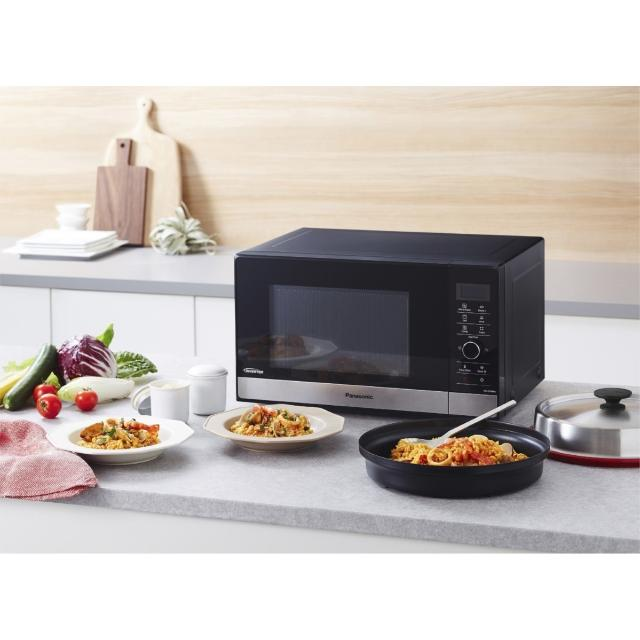Microwave: (230, 220, 554, 424)
